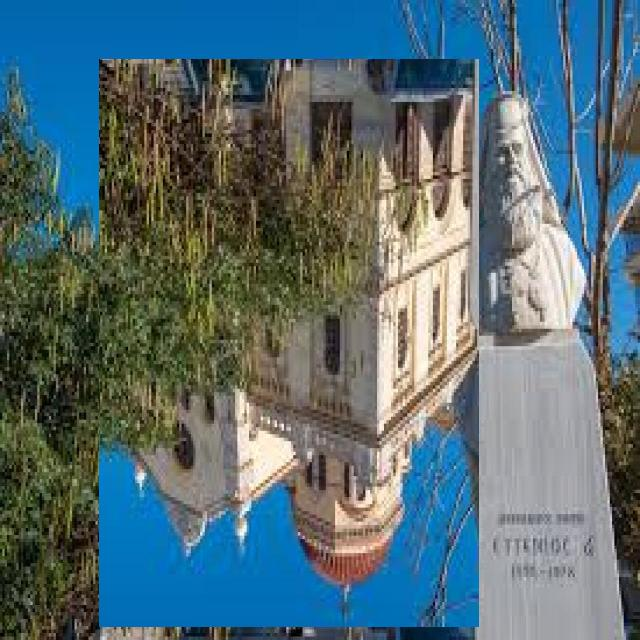Agios Minas: (100, 60, 480, 628)
